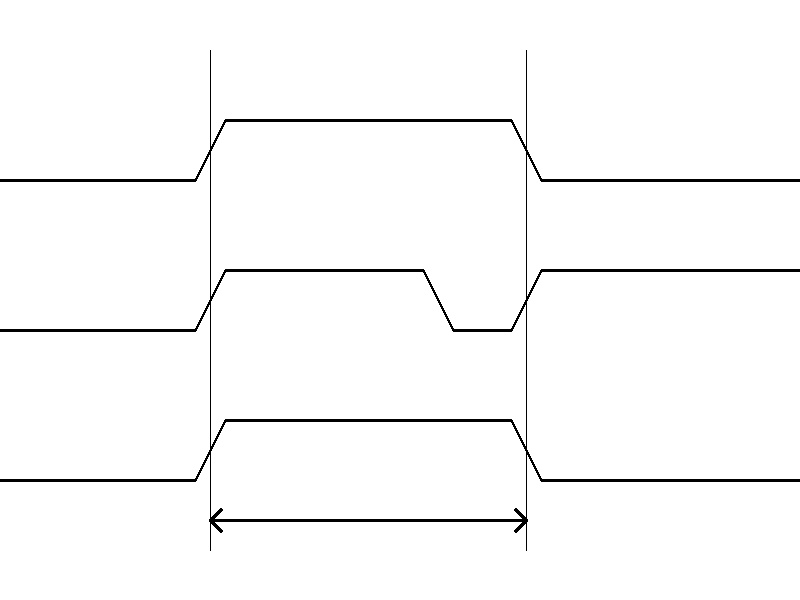double_arrow: (210, 505, 526, 535)
